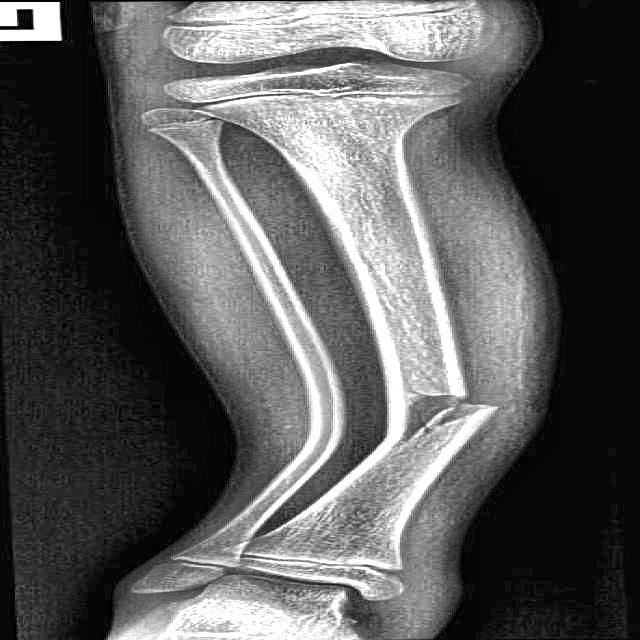Oblique Displaced: (355, 374, 542, 465)
